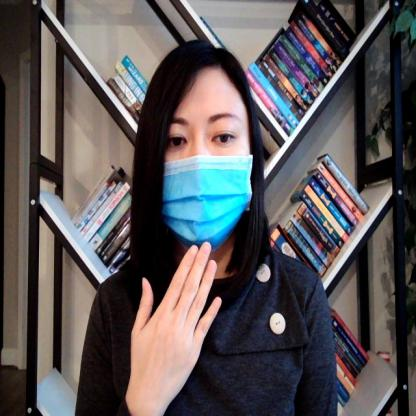thanks: (127, 240, 229, 414)
